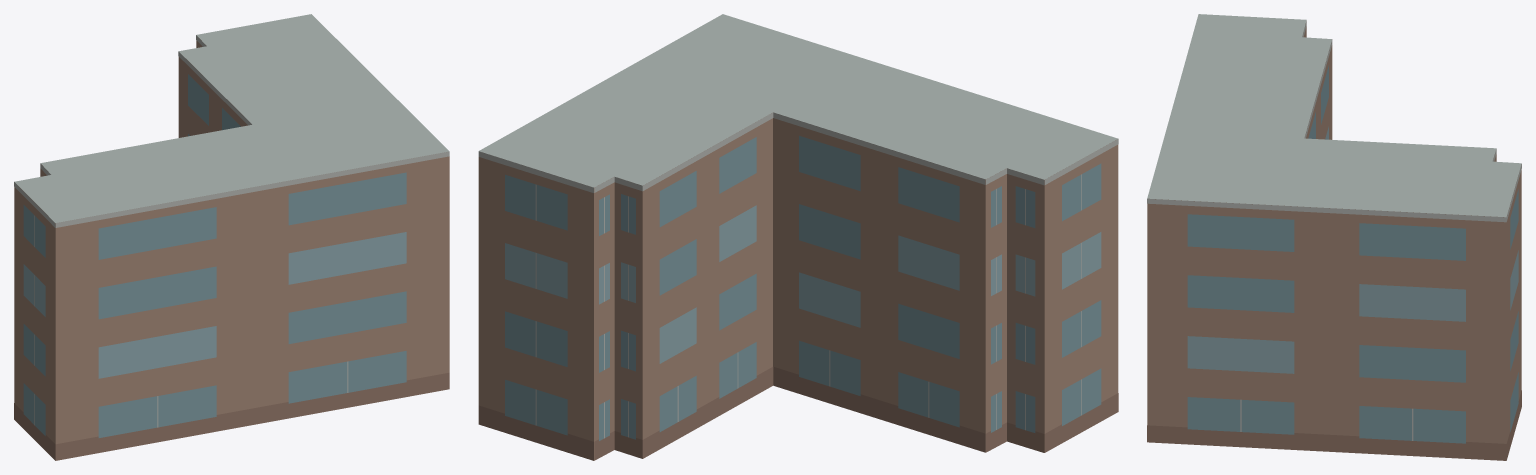
File: survey-upis-32637638.glb
3 renders of one model, left to right at view 1: azimuth 30°, elevation 25°; view 2: azimuth 150°, elevation 25°; view 3: azimuth 270°, elevation 25°, orthographic. The views are drawn at different scales.
Parts seen in each view (by area): view 1: survey-upis-32637638.tmp; view 2: survey-upis-32637638.tmp; view 3: survey-upis-32637638.tmp.
Part boxes in pixels (x1,y1,x2,y2): survey-upis-32637638.tmp: (14,14,449,460); survey-upis-32637638.tmp: (478,14,1118,460); survey-upis-32637638.tmp: (1147,14,1521,460).
Bounding box in the file's own units: 21.1 × 11.79 × 16.44.
